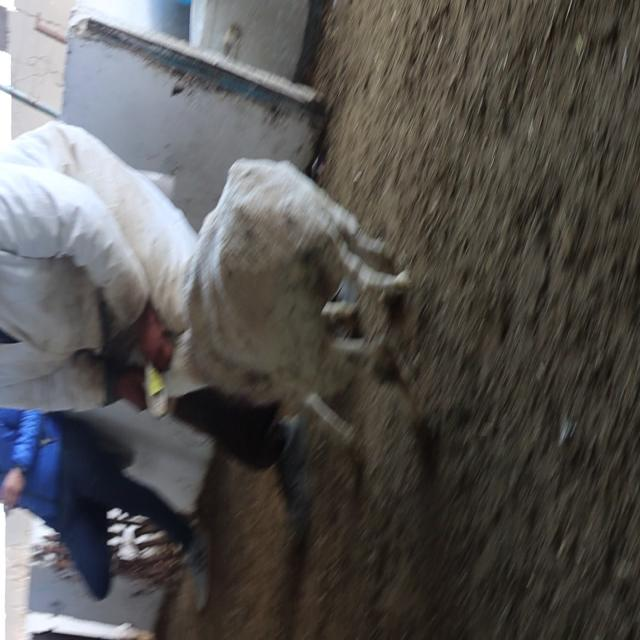Score_1: (145, 158, 420, 443)
